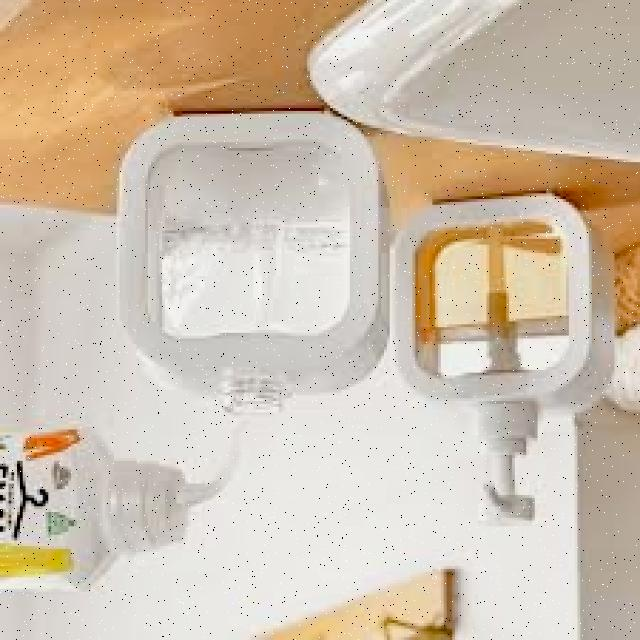liquid soap: (111, 100, 392, 432), (404, 190, 611, 534), (0, 410, 210, 601)
